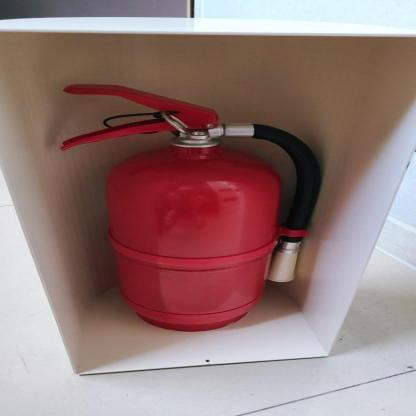Fire Extinguisher: (48, 52, 330, 348)
